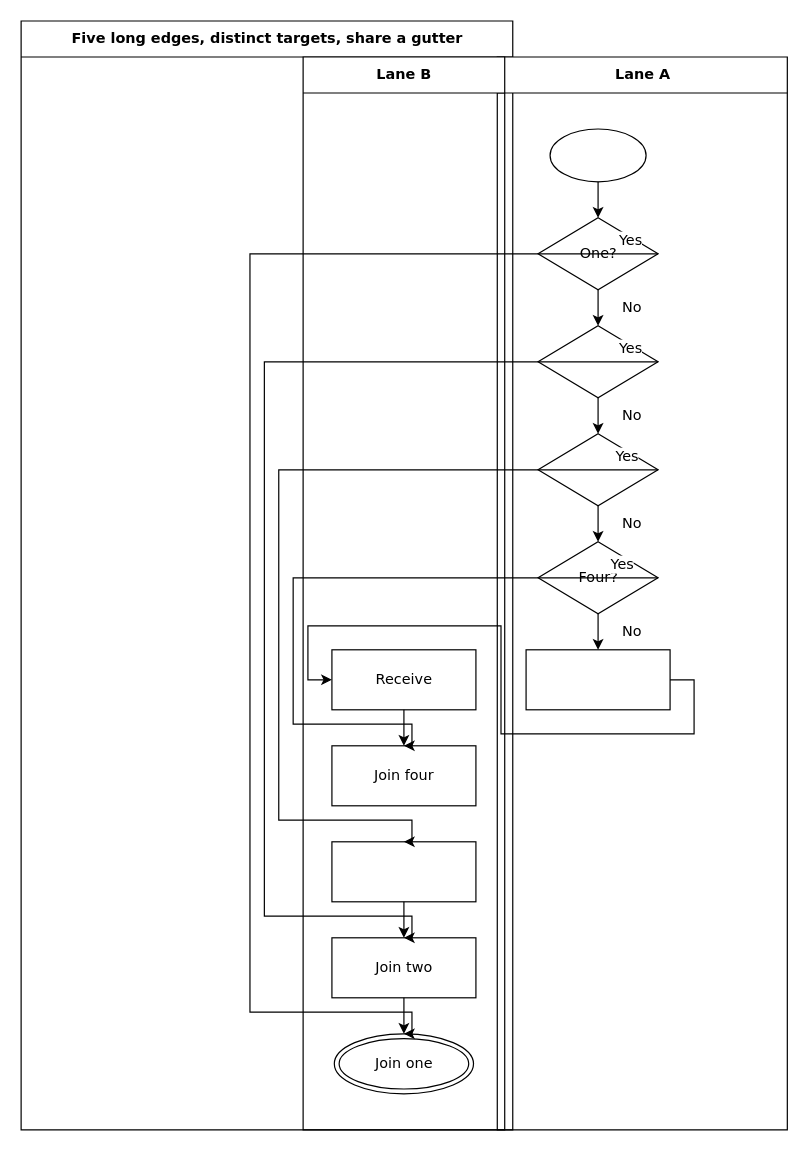
The diagram is 809 pixels wide and 1151 high, and some of its shapes have lost their labels. Here are the shapes that lost their labels. From the top down, the centre of each, then its label:
At pixel 597 155: "In".
At pixel 597 361: "Two?".
At pixel 597 469: "Three?".
At pixel 597 679: "All passed".
At pixel 403 871: "Join three".
